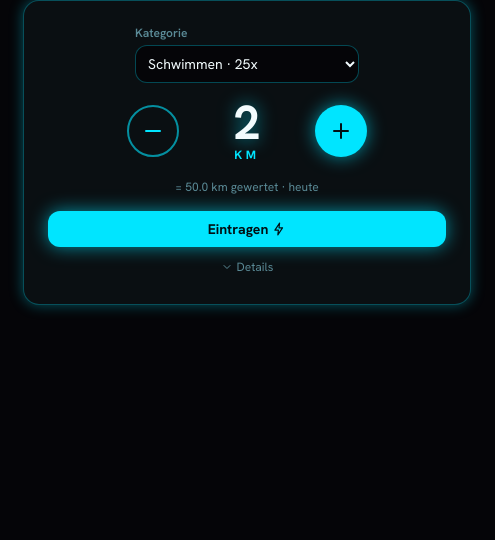
SchnellwahlCard › preview and label use the factor valid on the chosen date
Expected: the text "= 50.0 km gewertet · heute" is shown, [175, 179, 319, 195]
Click the button "Details" at x=247, y=267, box [221, 259, 273, 275]
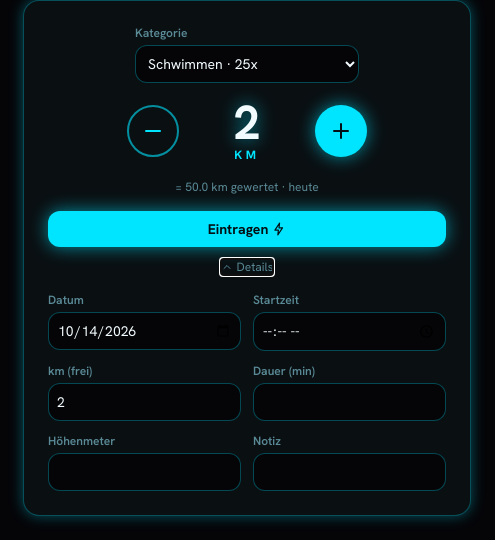
Type "2026-08-31" into the date field labelled "Datum" at x=144, y=331, box [48, 312, 241, 350]
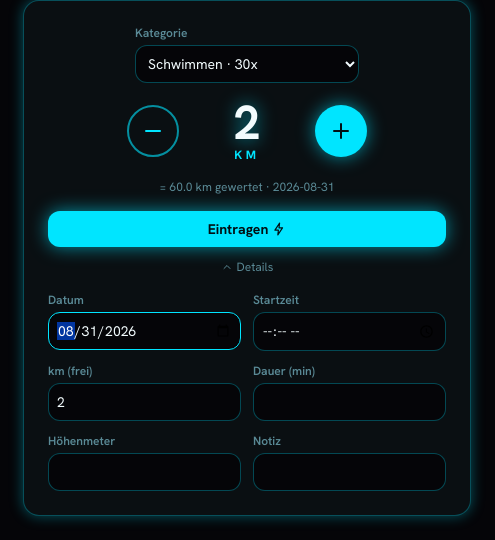
Result: the text "= 60.0 km gewertet · 2026-08-31" is shown at [160, 179, 334, 195]
